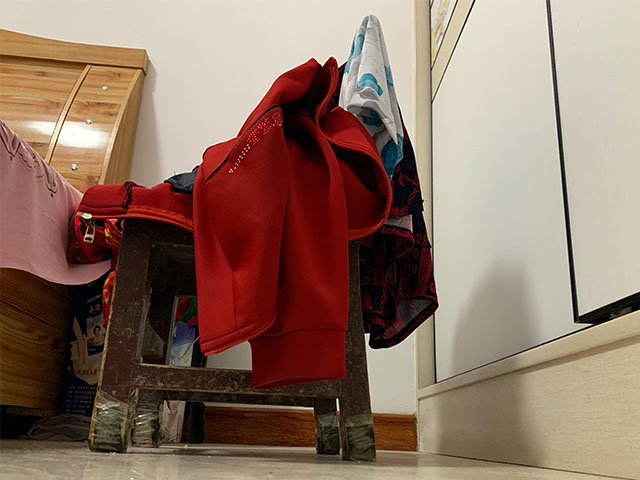bed: (1, 28, 152, 443)
cabinet: (410, 1, 640, 477)
stool: (85, 10, 390, 464)
